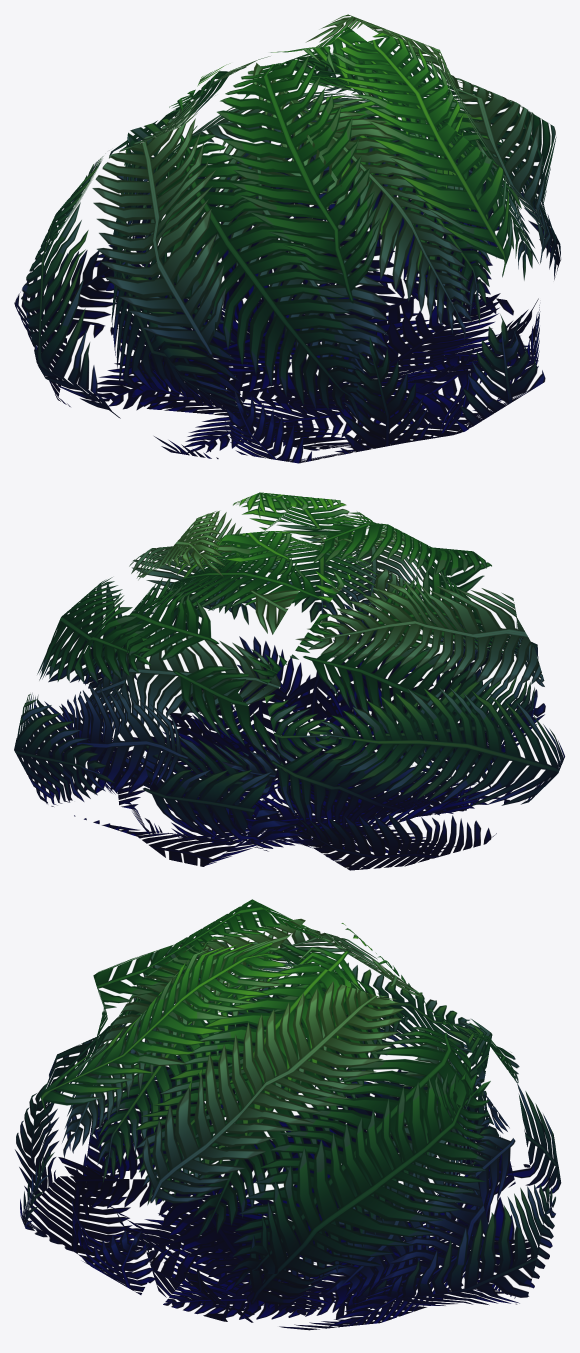
File: SM_Env_Bush_02.glb
3 renders of one model, top to bottom at view 1: azimuth 30°, elevation 25°; view 2: azimuth 150°, elevation 25°; view 3: azimuth 270°, elevation 25°, orthographic. The views are drawn at different scales.
Visible parts, largest first — view 1: SM_Env_Bush_02_LOD0; view 2: SM_Env_Bush_02_LOD0; view 3: SM_Env_Bush_02_LOD0.
Part boxes in pixels (x1=…): SM_Env_Bush_02_LOD0: x1=14, y1=14, x2=561, y2=463; SM_Env_Bush_02_LOD0: x1=14, y1=492, x2=564, y2=870; SM_Env_Bush_02_LOD0: x1=15, y1=899, x2=561, y2=1330.
Size of the model in its own units: 2.02 by 1.26 by 1.85.
1 material, 1 textured.
